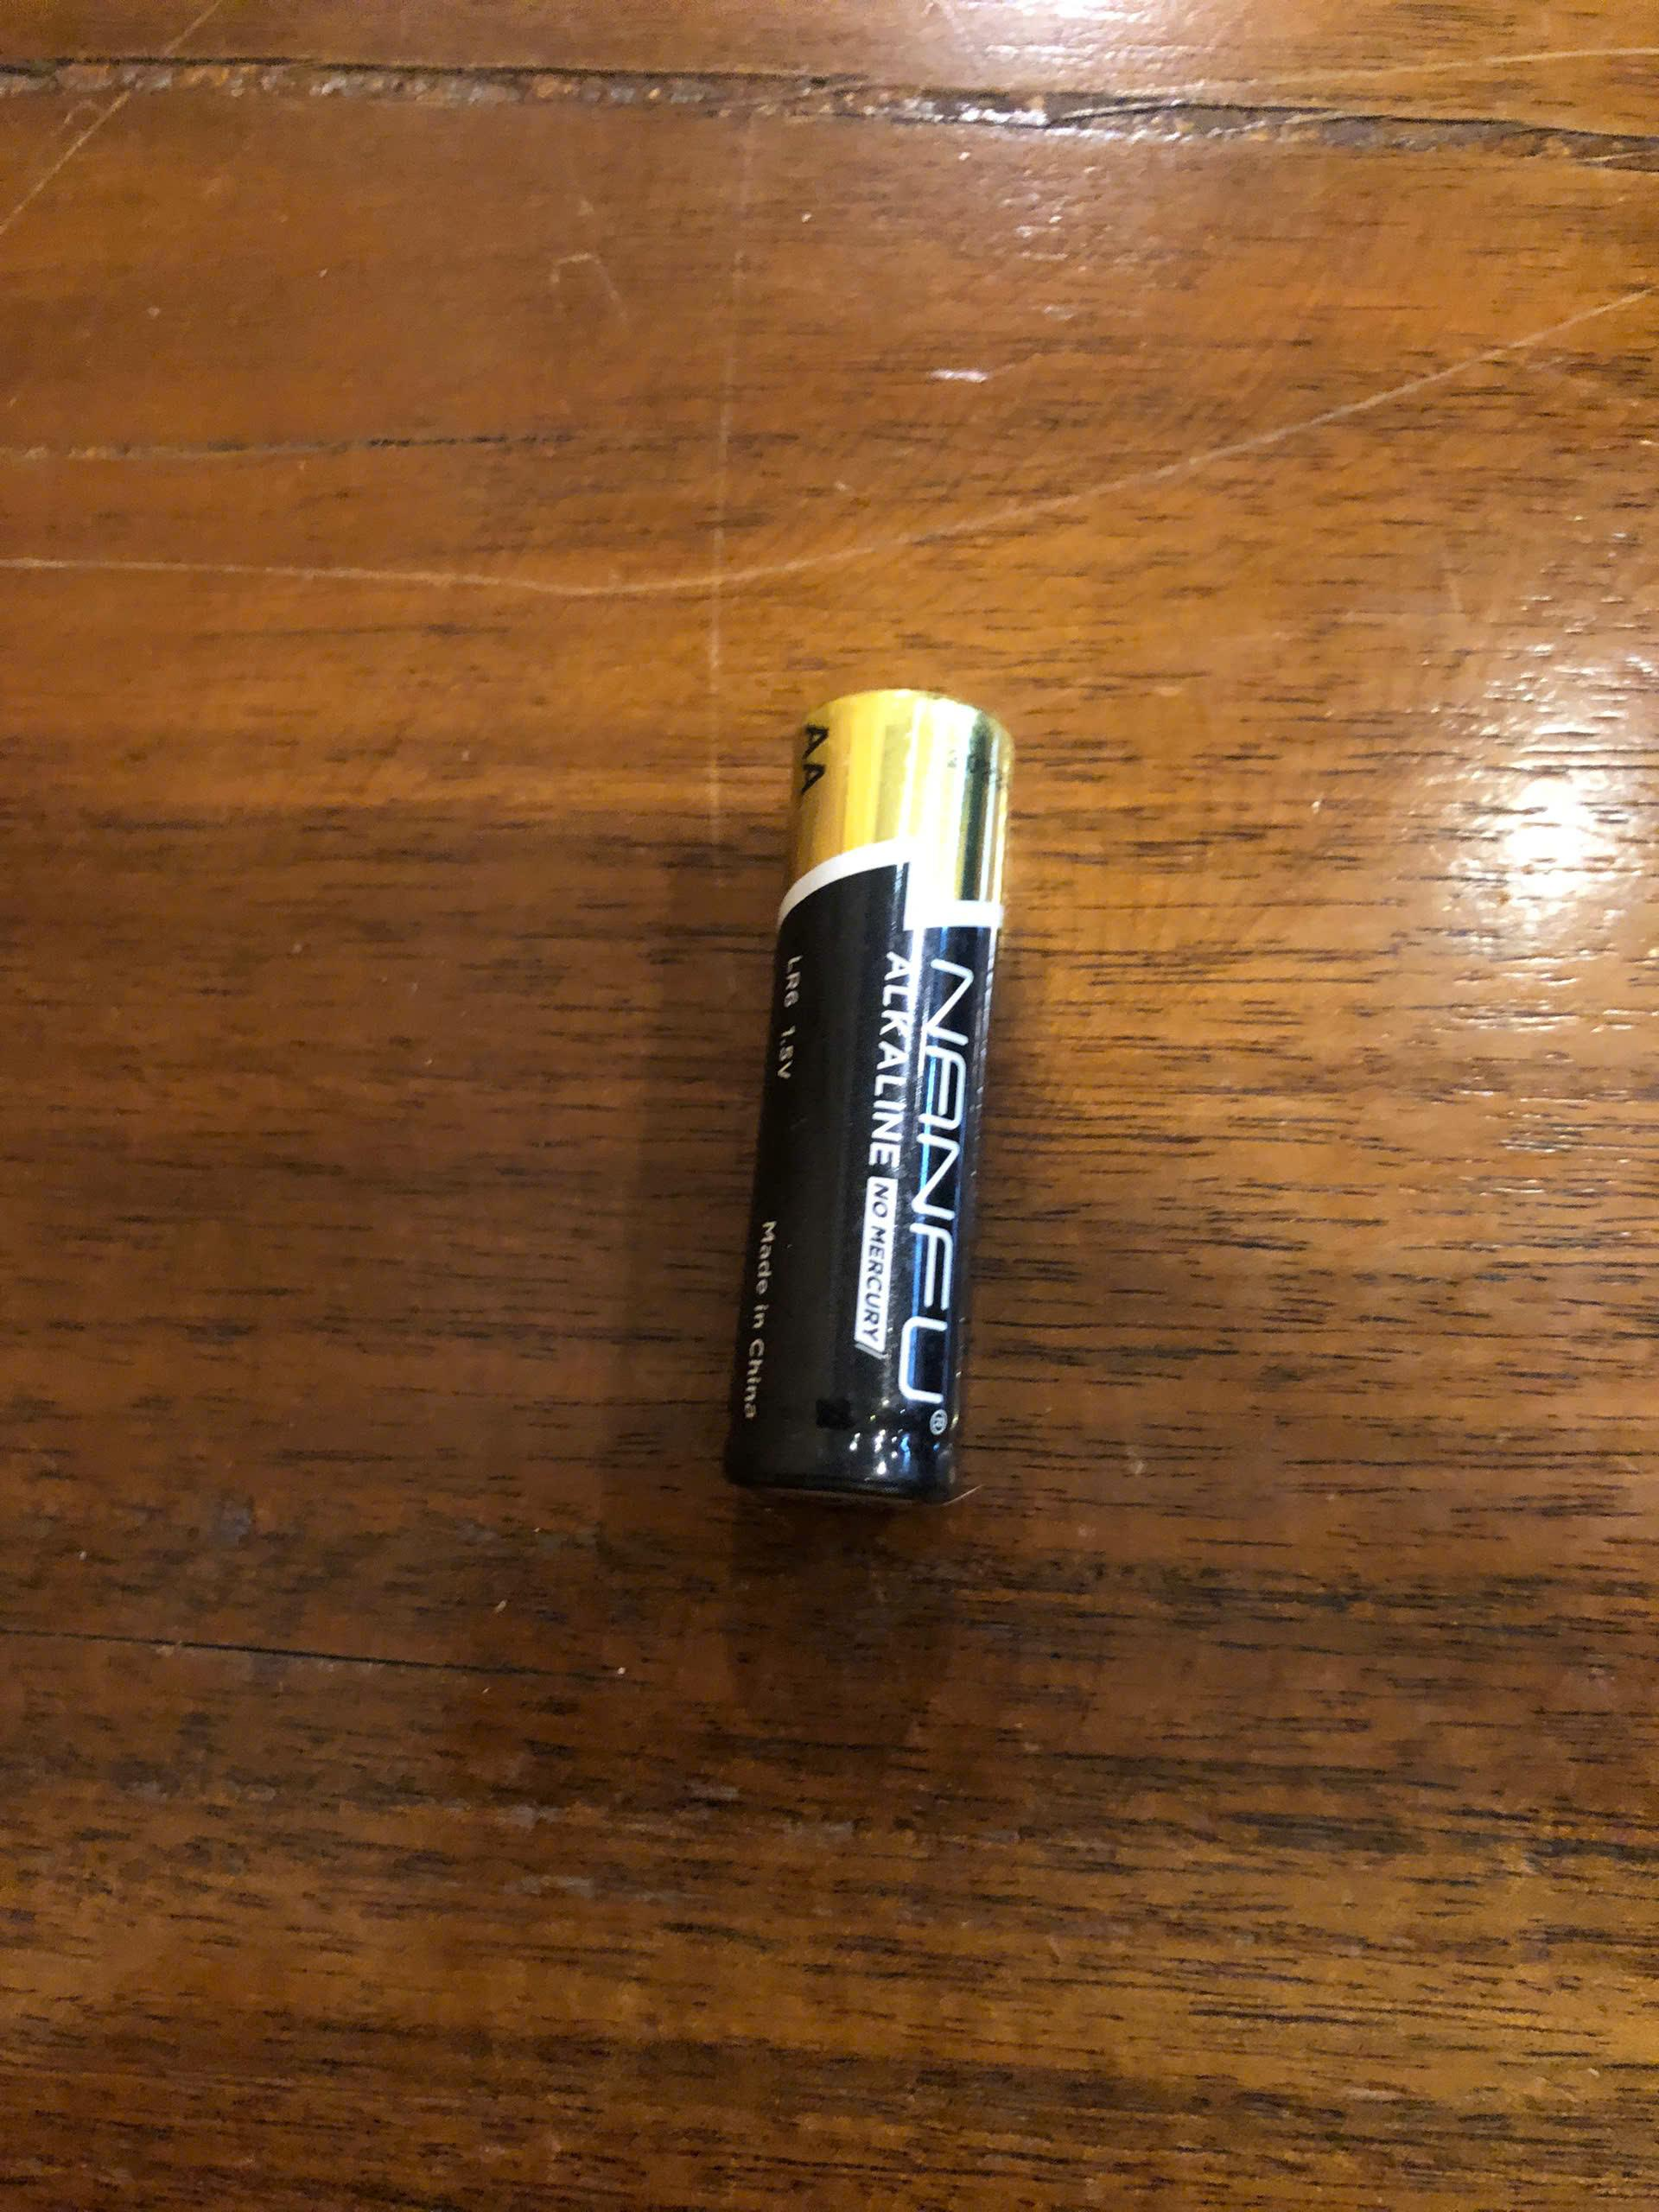Con lai: (709, 683, 1009, 1536)
